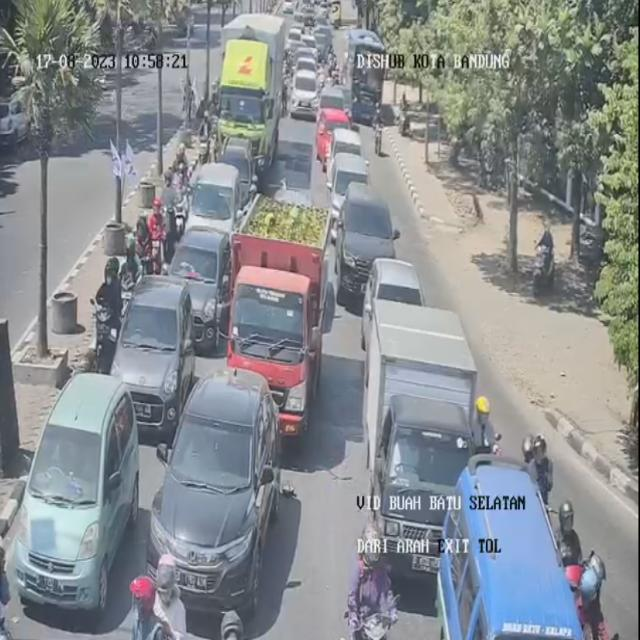bus: (349, 31, 385, 130)
cars: (158, 372, 285, 613), (23, 370, 141, 608), (439, 457, 583, 640), (121, 268, 190, 424), (176, 226, 228, 340), (342, 185, 391, 300), (182, 162, 238, 251), (367, 255, 416, 336), (333, 156, 370, 227), (220, 136, 257, 198), (311, 82, 346, 121), (316, 112, 349, 152), (294, 66, 316, 120), (330, 128, 358, 167), (298, 40, 317, 76), (316, 20, 334, 52), (300, 6, 316, 29), (288, 18, 303, 42)
motorcycle: (123, 538, 189, 638), (342, 538, 396, 638), (87, 254, 128, 360), (572, 549, 610, 639), (545, 494, 582, 567), (115, 229, 144, 304), (524, 432, 553, 501), (533, 223, 558, 296), (160, 164, 190, 224), (148, 191, 170, 266), (476, 388, 496, 467), (371, 101, 389, 156)
truck: (369, 289, 487, 578), (228, 204, 330, 433), (209, 13, 287, 169)
